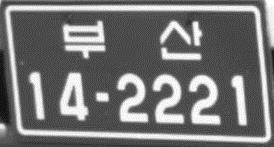-: (92, 89, 110, 104)
1: (227, 71, 253, 128), (26, 67, 49, 123)
2: (186, 71, 221, 127), (150, 71, 186, 125), (115, 71, 150, 125)
4: (56, 70, 90, 121)
부산_D: (61, 18, 203, 62)
